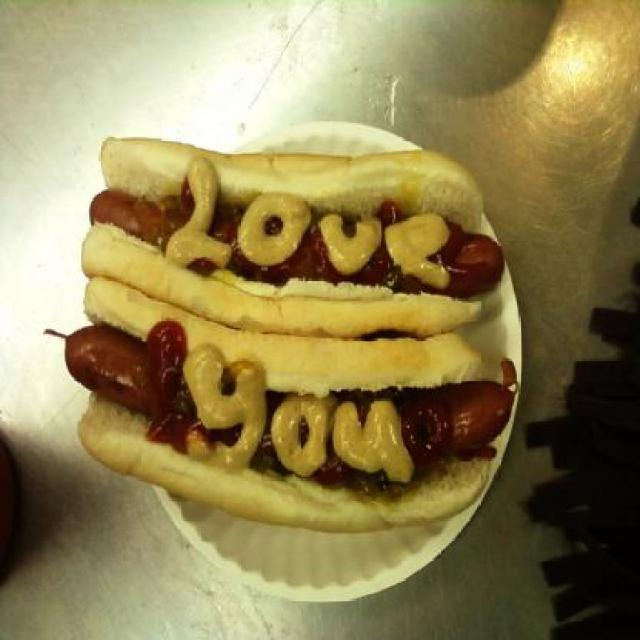Hot dog: (44, 274, 514, 534)
